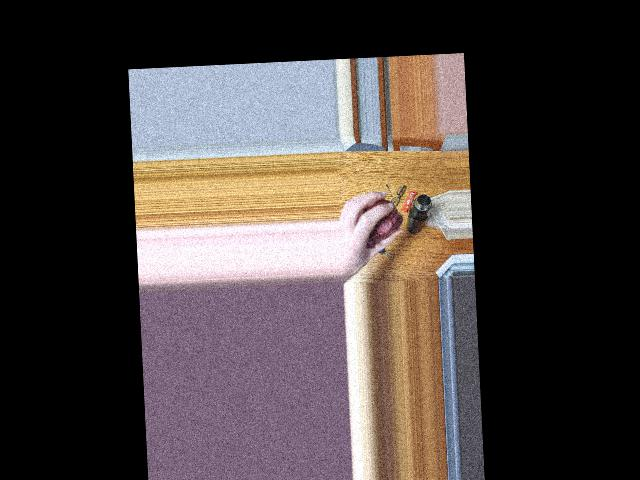onion: (363, 200, 399, 244)
